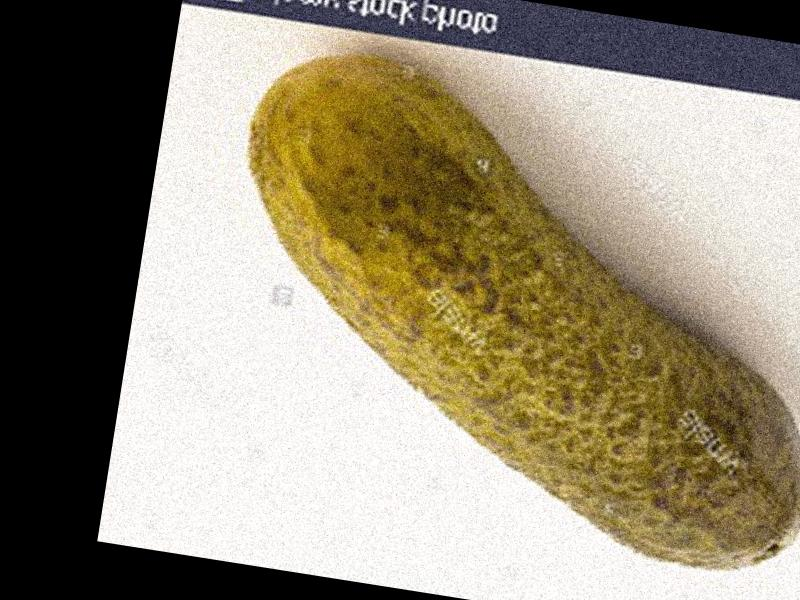Cucumber: (192, 42, 800, 581)
